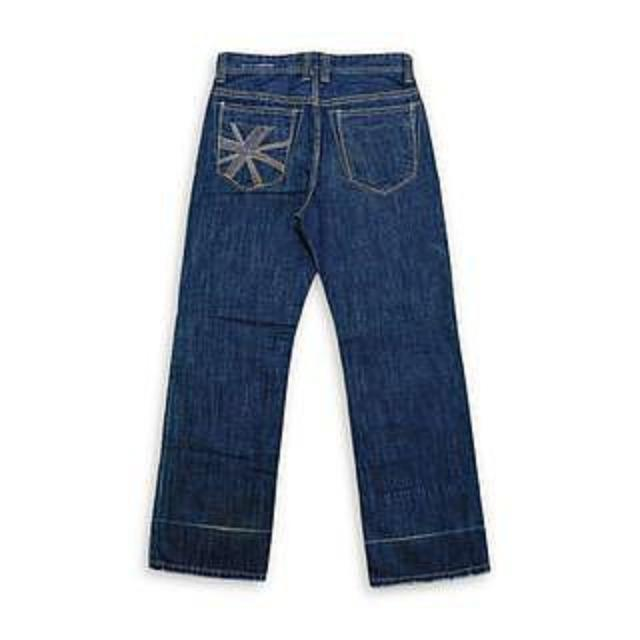TROUSER: (133, 37, 509, 600)
